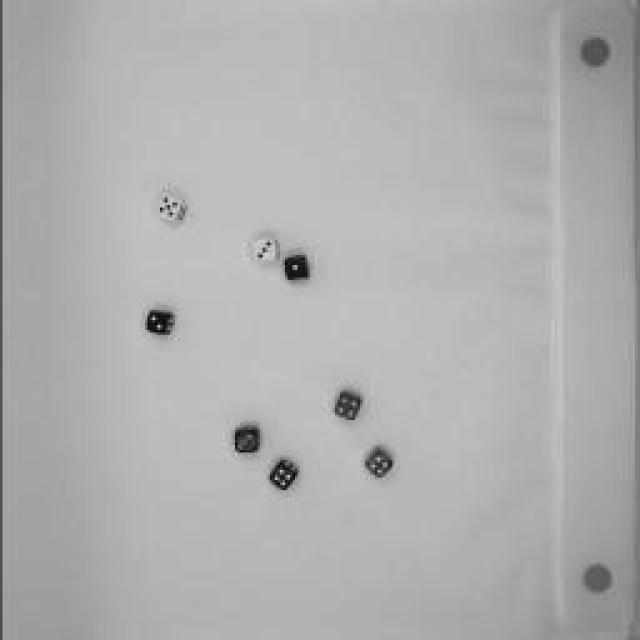dice_1: (279, 252, 316, 286)
dice_2: (142, 308, 176, 338)
dice_3: (226, 425, 264, 457), (248, 234, 280, 271)
dice_4: (327, 386, 365, 424), (264, 455, 301, 493), (362, 446, 396, 479)
dice_5: (147, 190, 195, 230)
